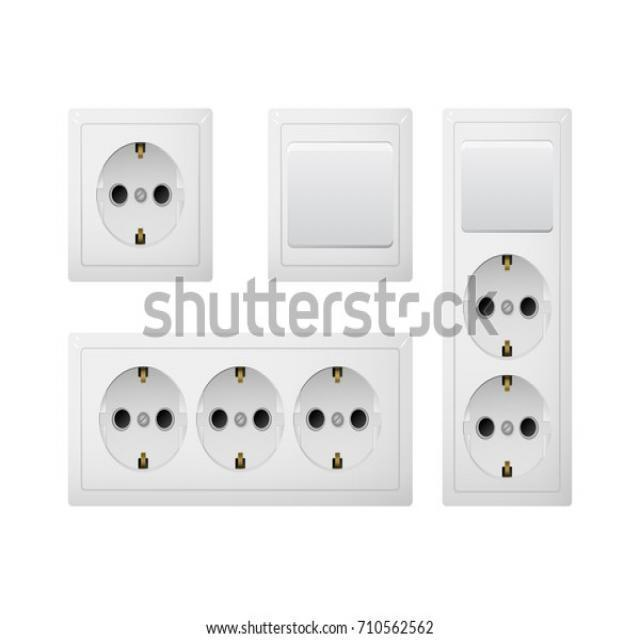typeb: (54, 319, 421, 527), (434, 95, 574, 539), (51, 81, 224, 294)
